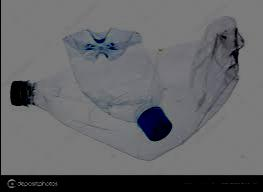Plastic: (9, 15, 245, 162)
